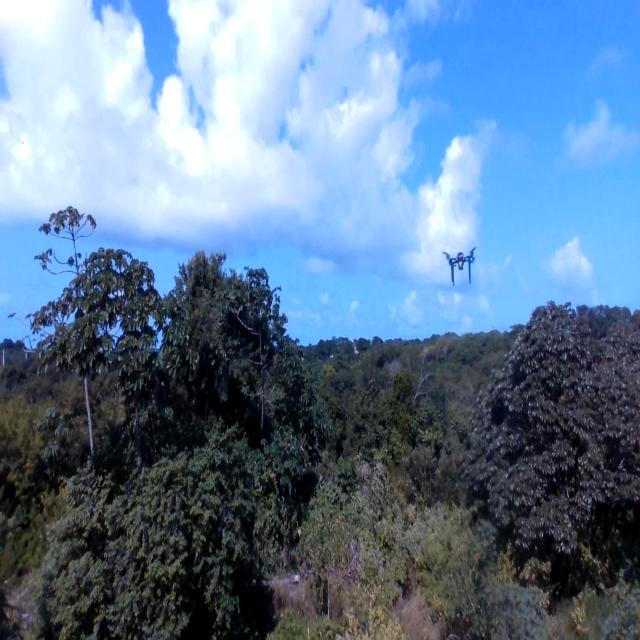-uav-: (443, 222, 481, 298)
